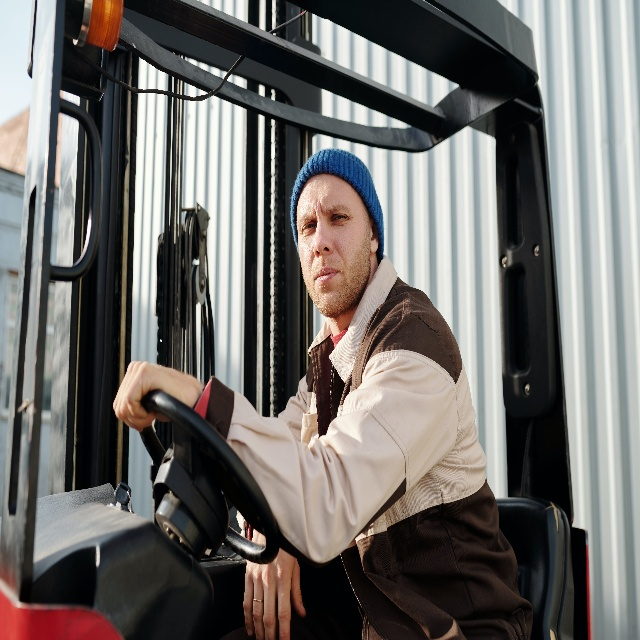Sin_guantes: (242, 520, 306, 640), (112, 358, 206, 434)
